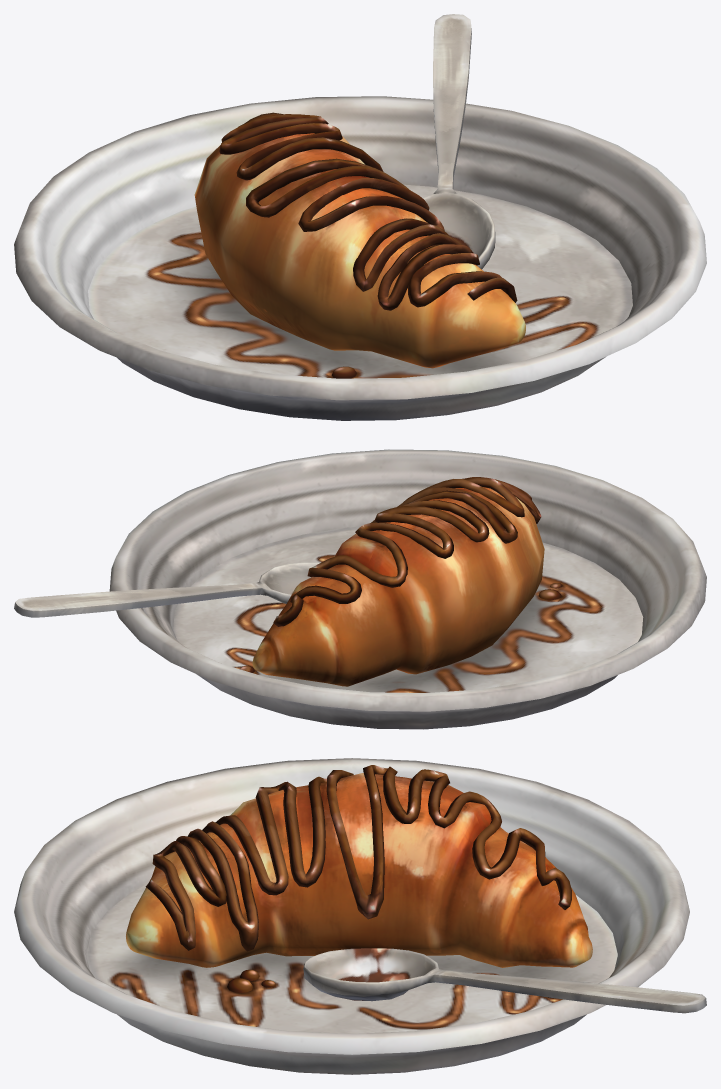
Rendered from croissant.glb.
The picture shows the model from 3 angles, top to bottom: view 1: azimuth 30°, elevation 25°; view 2: azimuth 150°, elevation 25°; view 3: azimuth 270°, elevation 25°; orthographic projection. The views are drawn at different scales.
Visible parts, largest first — view 1: 5_low, 2_low, 1_low, 4_low; view 2: 5_low, 2_low, 1_low, 4_low; view 3: 5_low, 2_low, 1_low, 4_low, 3_low.
Boxes of the visible parts, x1,y1,x2,y2 form: 5_low: [14, 96, 706, 420]; 2_low: [194, 133, 525, 368]; 1_low: [219, 112, 517, 310]; 4_low: [423, 14, 495, 269]; 5_low: [109, 449, 706, 729]; 2_low: [252, 487, 544, 686]; 1_low: [273, 477, 541, 626]; 4_low: [14, 562, 319, 617]; 5_low: [14, 758, 689, 1074]; 2_low: [126, 773, 592, 967]; 1_low: [145, 765, 571, 951]; 4_low: [303, 948, 706, 1013]; 3_low: [227, 969, 554, 998].
Bounding box in the file's own units: 1.1 × 0.2954 × 1.13.
1 material, 1 textured.
